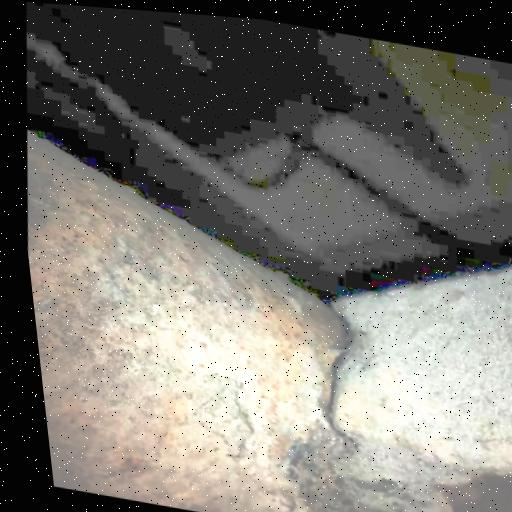crack: (292, 285, 390, 459)
